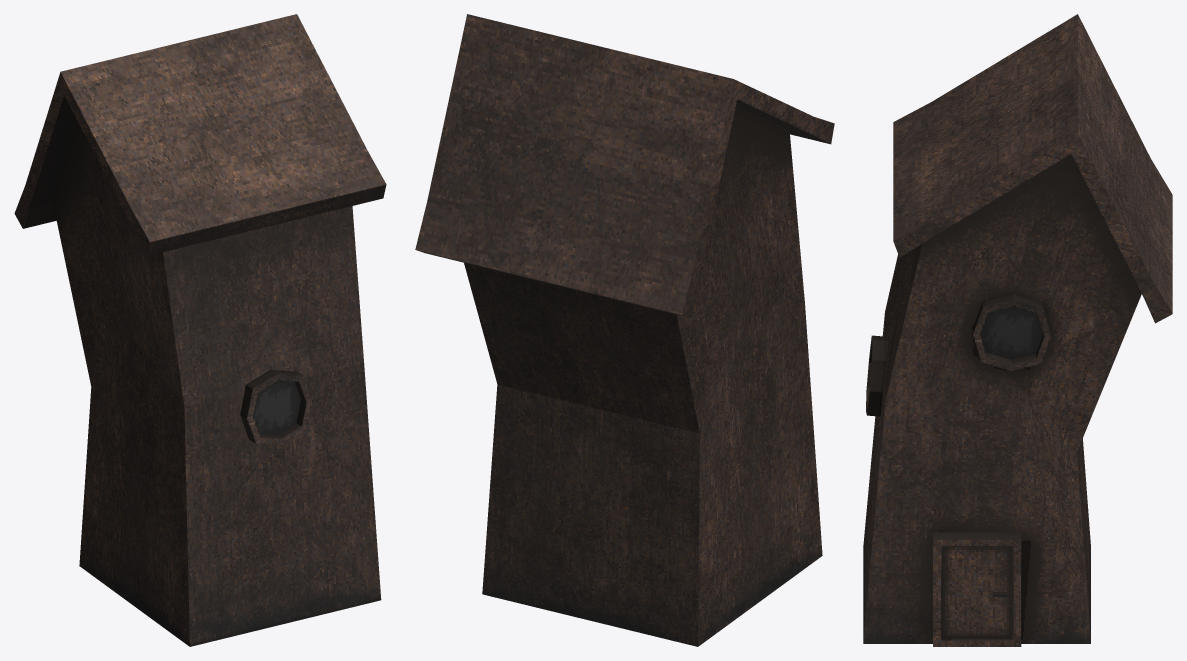
The model's file is house2.glb.
The picture shows the model from 3 angles, left to right: view 1: azimuth 30°, elevation 25°; view 2: azimuth 150°, elevation 25°; view 3: azimuth 270°, elevation 25°; orthographic projection. The views are drawn at different scales.
Visible parts, largest first — view 1: Cube.002; view 2: Cube.002; view 3: Cube.002.
Part boxes in pixels (x1,y1,x2,y2): Cube.002: (14,14,386,646); Cube.002: (415,14,834,646); Cube.002: (863,14,1172,646).
Bounding box in the file's own units: 5.6 × 11.42 × 6.15.
1 material, 1 textured.
